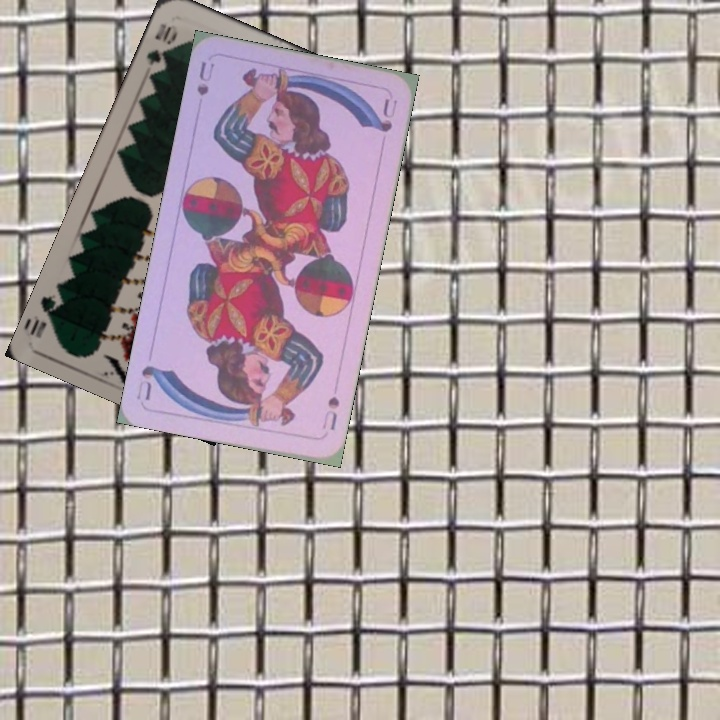G10: (142, 19, 181, 69)
SU: (192, 57, 217, 98), (317, 392, 342, 433)
